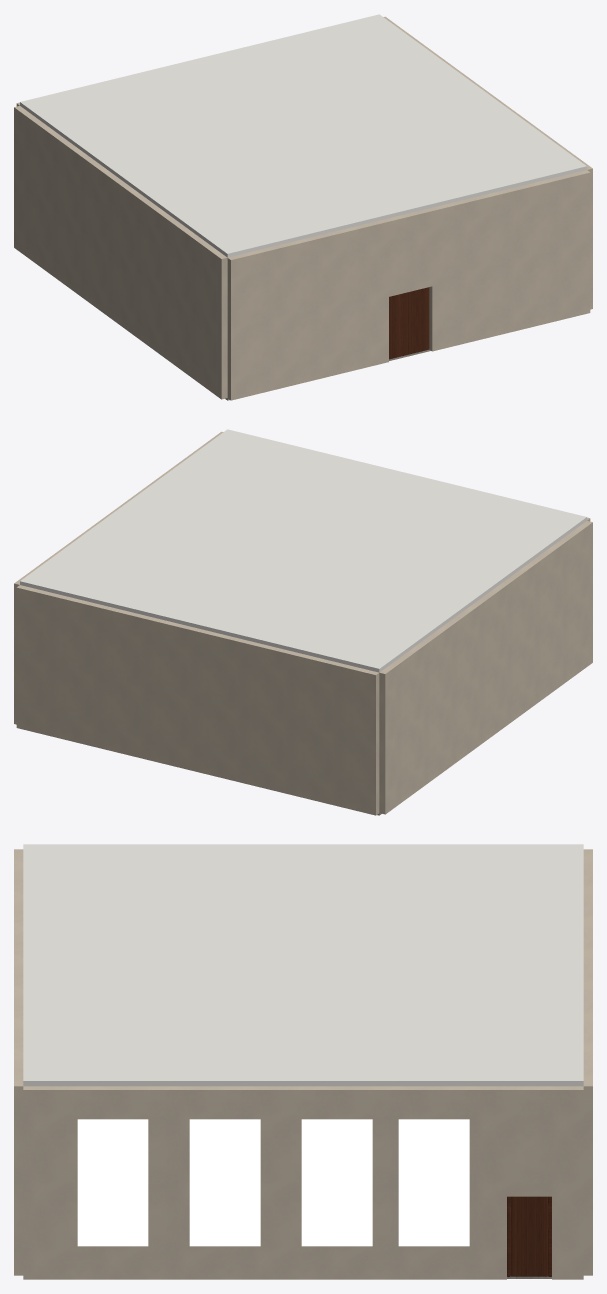
File: courtroom.glb
3 views of the same model, one above another, from view 1: azimuth 30°, elevation 25°; view 2: azimuth 150°, elevation 25°; view 3: azimuth 270°, elevation 25° (orthographic). The views are drawn at different scales.
Visible parts, largest first — view 1: ENV_Wall_Plaster, ENV_Ceiling_Paint, INTERACT_MainDoor_Leaf0, INTERACT_MainDoor_Leaf1; view 2: ENV_Wall_Plaster, ENV_Ceiling_Paint; view 3: ENV_Ceiling_Paint, ENV_Wall_Plaster, ENV_Exterior_Daylight, INTERACT_SecurityDoor_Leaf0, ENV_Wood_Walnut.
Boxes of the visible parts, box(x1,y1,x2,y2) form: ENV_Wall_Plaster: box(14, 16, 592, 400); ENV_Ceiling_Paint: box(20, 14, 586, 257); INTERACT_MainDoor_Leaf0: box(408, 287, 429, 354); INTERACT_MainDoor_Leaf1: box(389, 292, 407, 359); ENV_Wall_Plaster: box(14, 431, 592, 815); ENV_Ceiling_Paint: box(20, 429, 586, 672); ENV_Ceiling_Paint: box(23, 844, 583, 1086); ENV_Wall_Plaster: box(14, 849, 592, 1279); ENV_Exterior_Daylight: box(77, 1119, 469, 1246); INTERACT_SecurityDoor_Leaf0: box(511, 1196, 547, 1276); ENV_Wood_Walnut: box(507, 1196, 551, 1276).
Size of the model in its own units: 15.85 by 5.85 by 15.5.
Materials: 24 (10 with a texture image).
